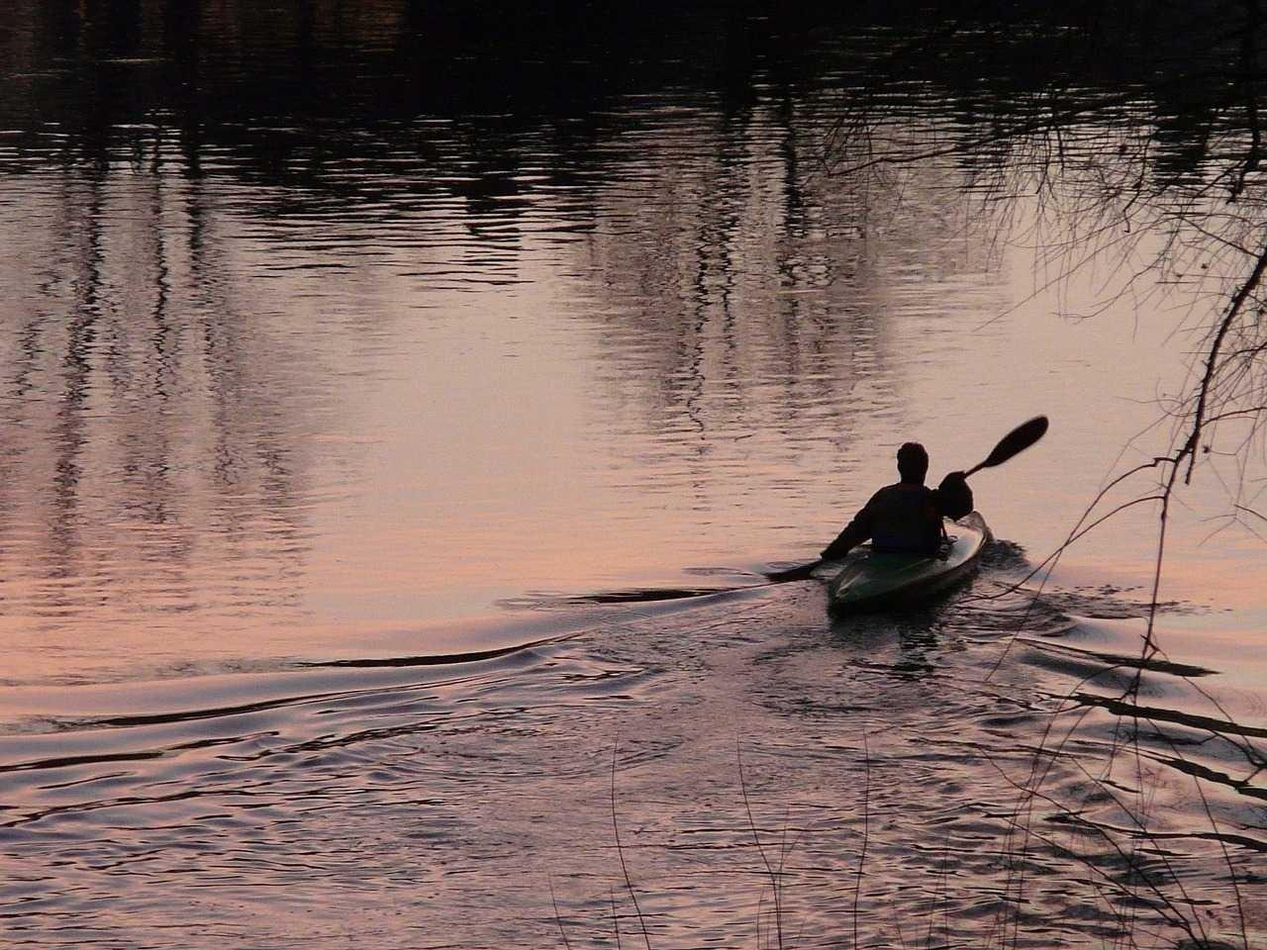kayak: (827, 512, 990, 616)
